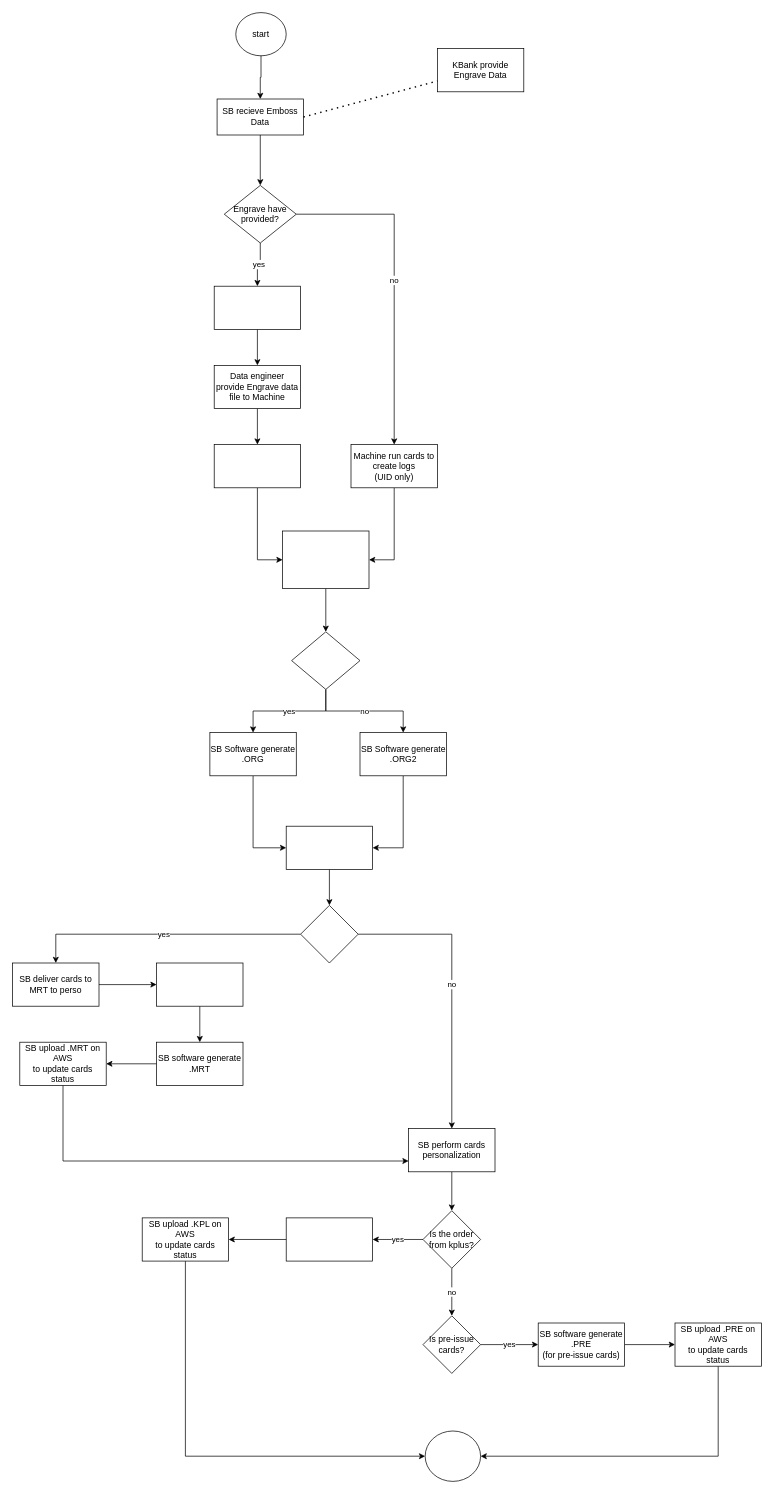
This 774x1494 diagram has some shape labels left out. The centre of each missing label's shape, as x and y in pixels:
Data engineer create Engrave data file with engrave number: point 257,307
End: point 452,1455
Is .ORG generated?: point 329,934
Log have Engrave number?: point 325,660
Machine print Engrave on cards & create logs (Engrave, UID): point 257,466
Operators provide machine logs as an inout to generate .ORG (SB software): point 325,559
SB recieve back the cards from MRT: point 199,984
SB software generate .KPL (order from kplus): point 329,1239
SB upload .ORG/.ORG2 on AWS: point 329,847
